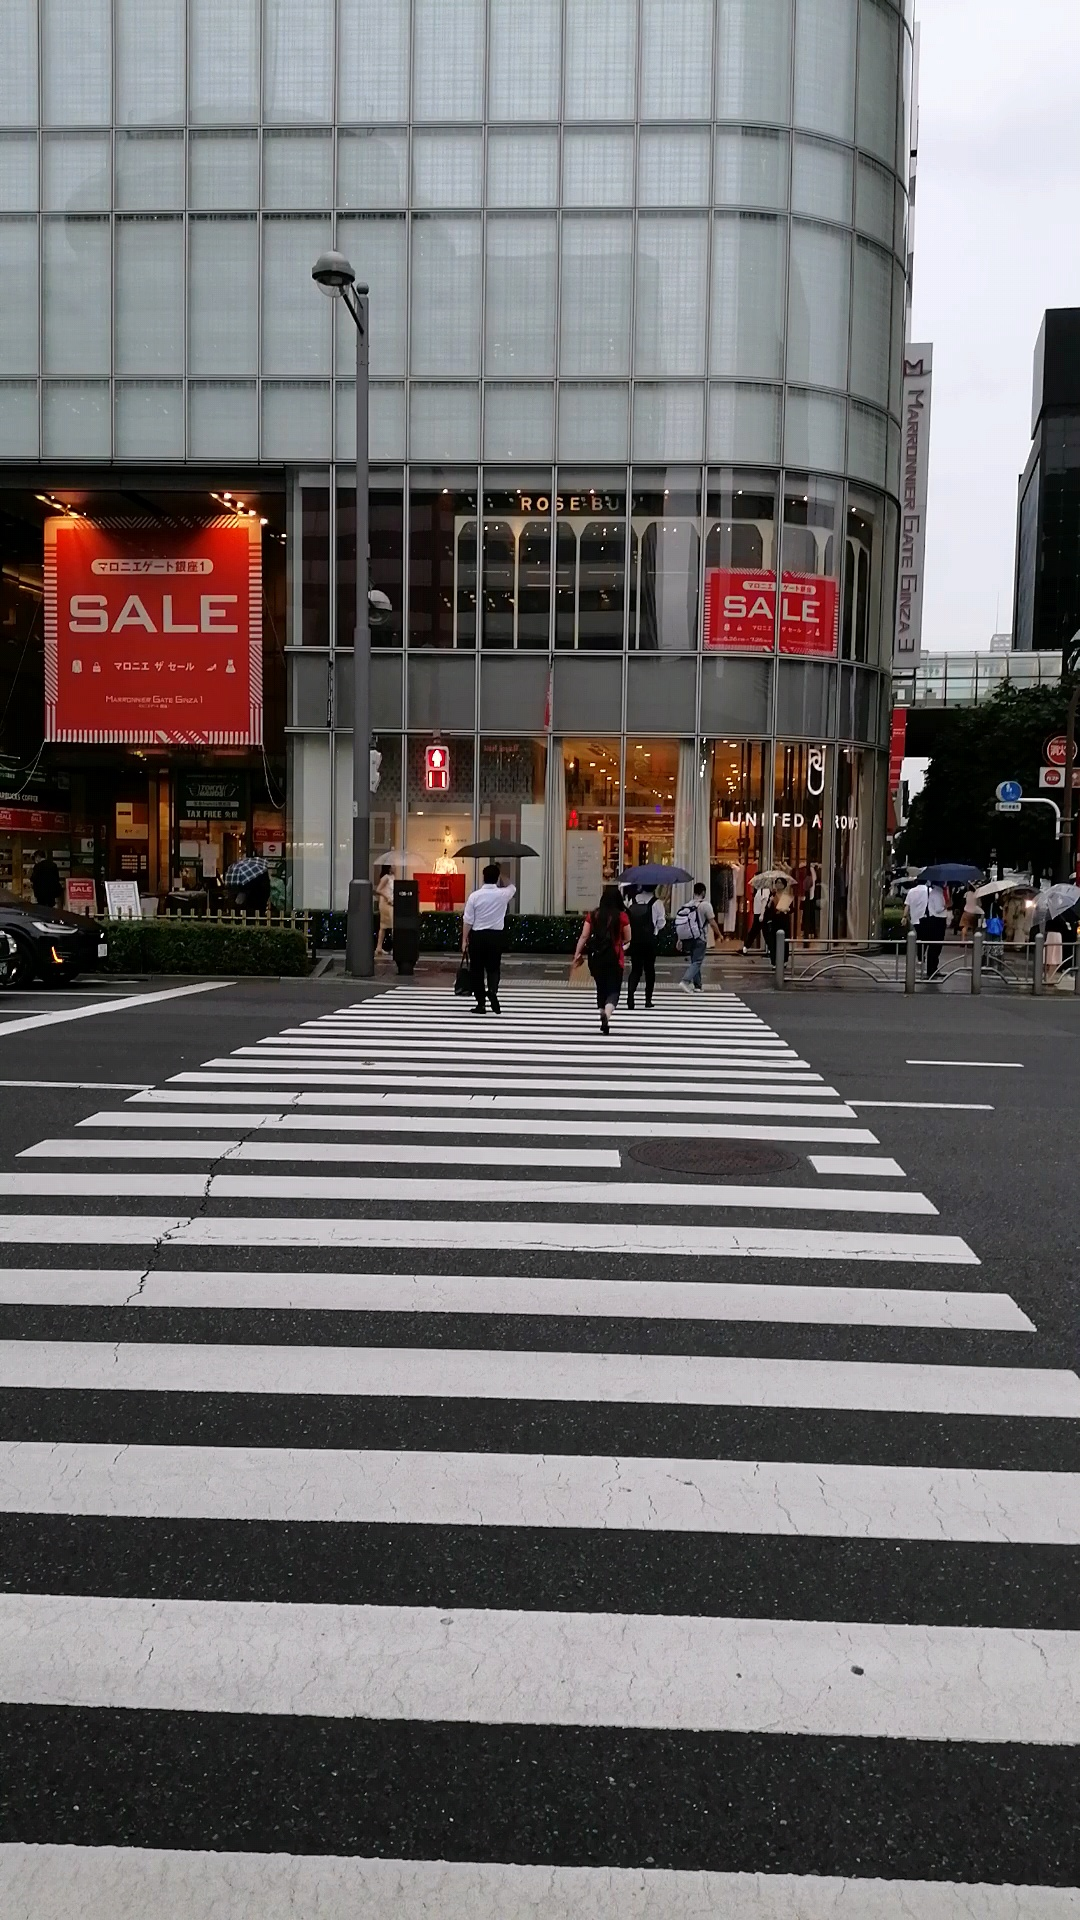red: (423, 742, 452, 795)
